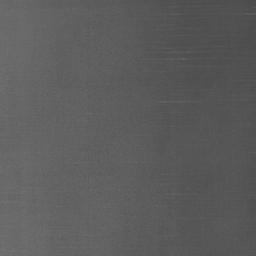Waist folding: (145, 2, 256, 104), (109, 175, 222, 221), (0, 200, 88, 254), (0, 6, 88, 11), (235, 236, 256, 238), (248, 122, 256, 127), (0, 131, 38, 132)
